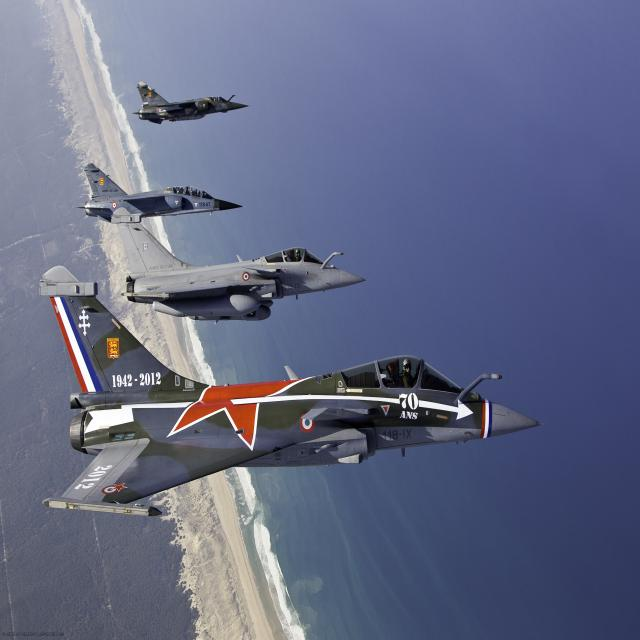MIL_Plane: (39, 265, 543, 517), (111, 207, 368, 325), (72, 163, 246, 223), (131, 81, 252, 124)
